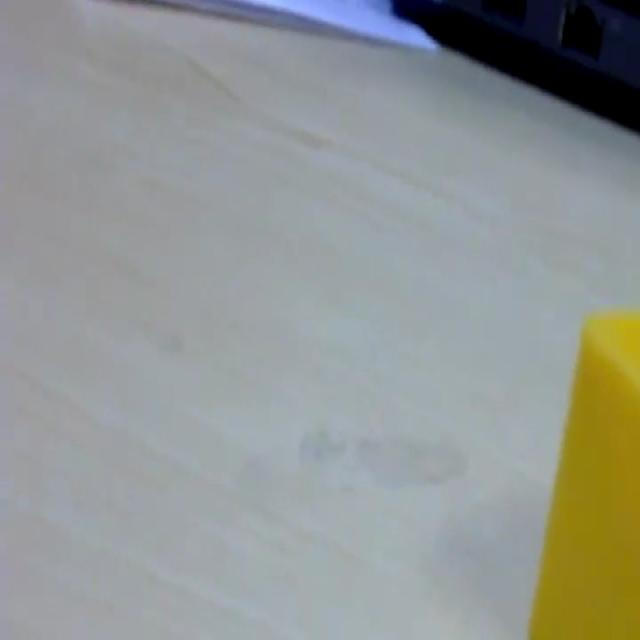yellow_block: (526, 307, 638, 637)
